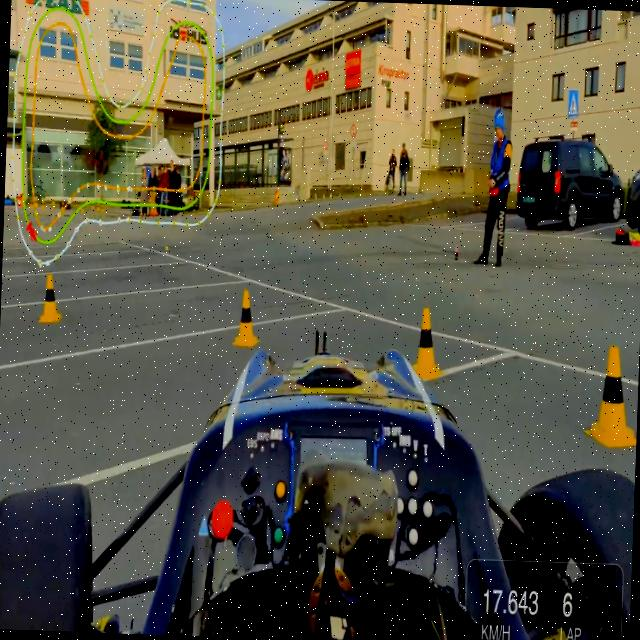yellow_cone: (584, 343, 640, 449), (409, 308, 445, 380), (232, 289, 261, 347), (39, 272, 62, 322)
